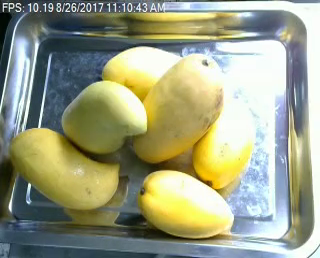Mango: (132, 51, 223, 166), (8, 126, 123, 212), (135, 164, 238, 241), (61, 78, 150, 158), (191, 96, 257, 189), (102, 42, 181, 94)
